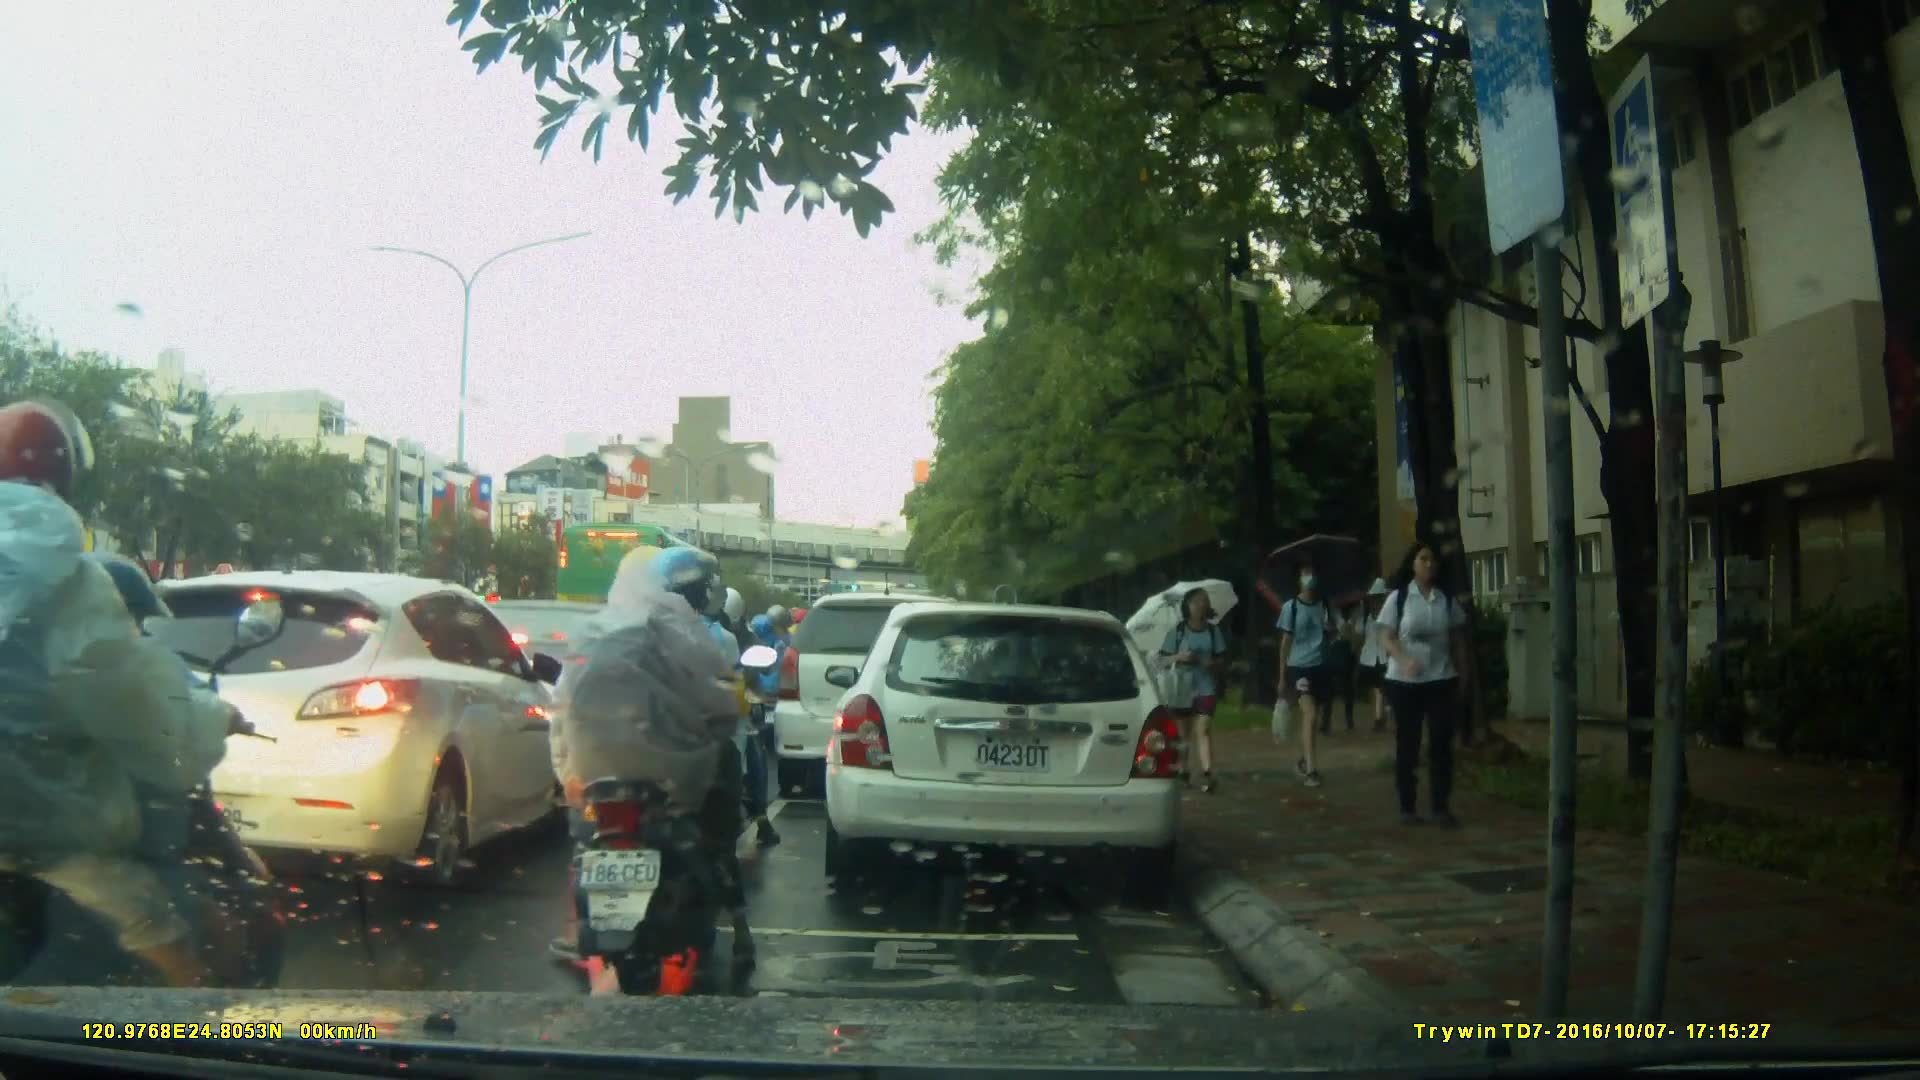pedestrian: (1372, 535, 1489, 838), (1260, 553, 1343, 791), (1161, 581, 1228, 794), (1134, 605, 1174, 740)
rider: (3, 394, 324, 1069), (538, 544, 775, 979), (613, 564, 750, 866), (646, 580, 759, 835), (737, 600, 797, 746)
vehicle: (93, 569, 589, 883), (822, 604, 1186, 882), (774, 595, 995, 802), (554, 519, 739, 666)
